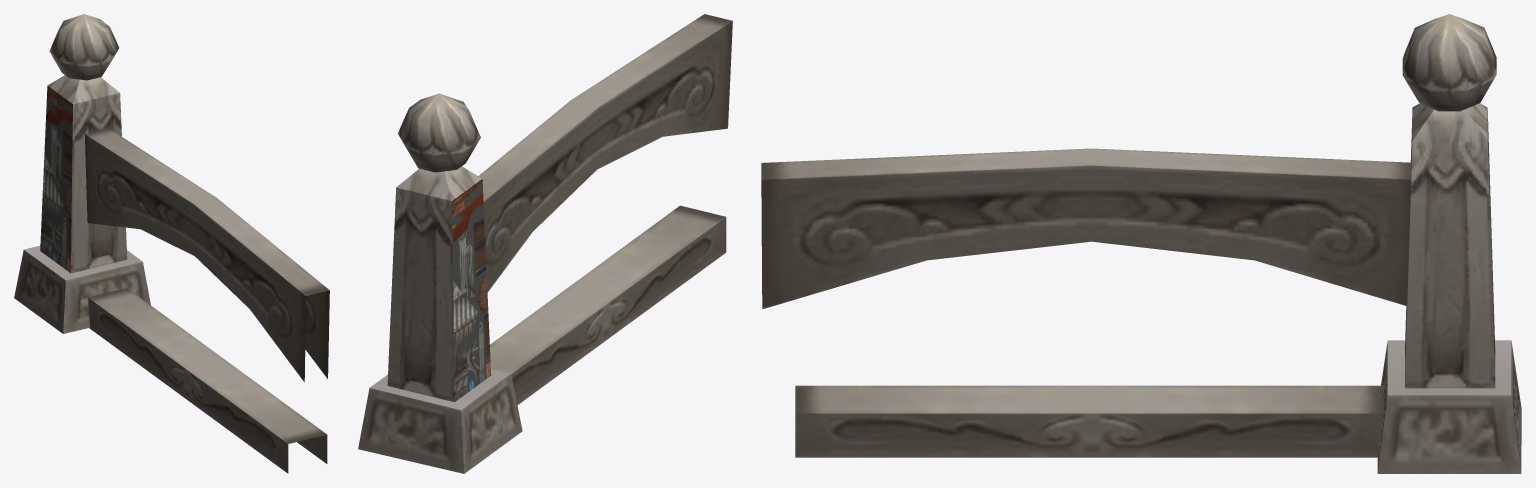
The model's file is cj_luoyang_langan03_53_59_0759out.fbx.
The picture shows the model from 3 angles, left to right: view 1: azimuth 30°, elevation 25°; view 2: azimuth 150°, elevation 25°; view 3: azimuth 270°, elevation 25°; orthographic projection. The views are drawn at different scales.
Parts seen in each view (by area): view 1: cj_luoyang_langan03; view 2: cj_luoyang_langan03; view 3: cj_luoyang_langan03.
Boxes of the visible parts, x1,y1,x2,y2 form: cj_luoyang_langan03: (14,14,329,473); cj_luoyang_langan03: (358,14,732,473); cj_luoyang_langan03: (761,14,1521,473).
Size of the model in its own units: 0.4389 by 1.37 by 2.2.
